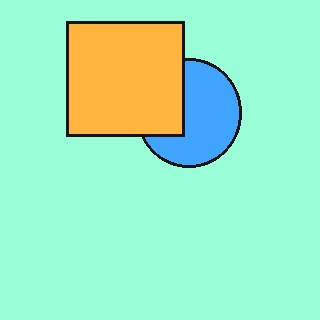circle_target: (137, 58, 242, 167)
square_target: (66, 21, 184, 137)
